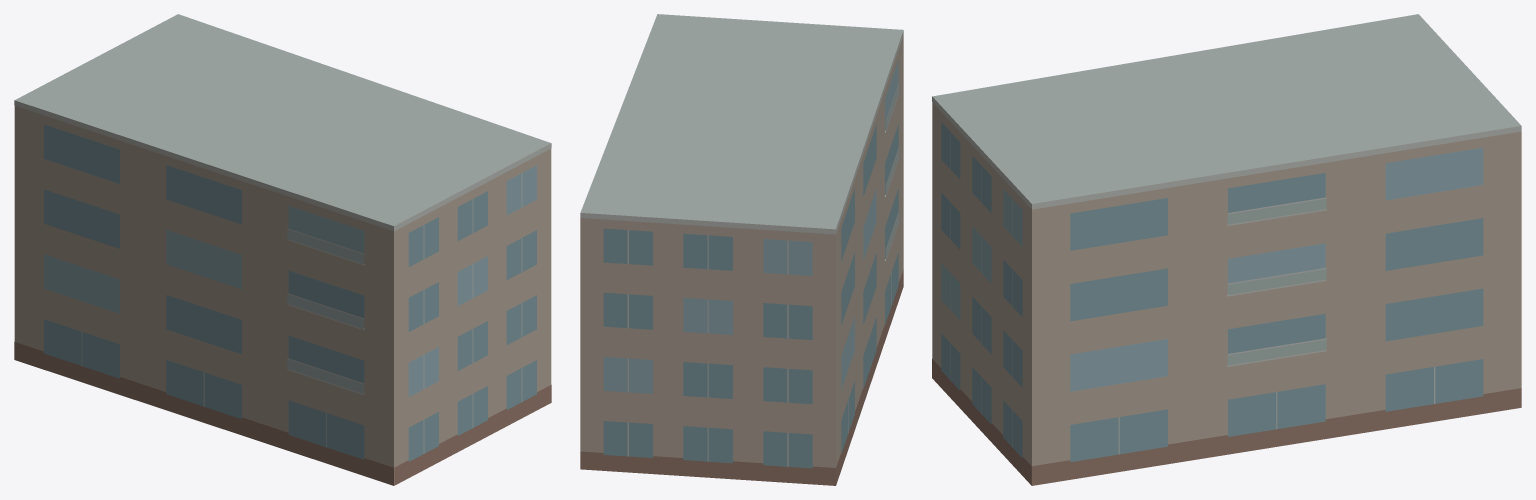
File: survey-upis-32856069.glb
3 views of the same model, side by side, from view 1: azimuth 30°, elevation 25°; view 2: azimuth 150°, elevation 25°; view 3: azimuth 270°, elevation 25° (orthographic). The views are drawn at different scales.
Visible parts, largest first — view 1: survey-upis-32856069.tmp; view 2: survey-upis-32856069.tmp; view 3: survey-upis-32856069.tmp.
Part boxes in pixels (x1,y1,x2,y2): survey-upis-32856069.tmp: [14, 14, 551, 485]; survey-upis-32856069.tmp: [580, 14, 903, 485]; survey-upis-32856069.tmp: [932, 14, 1521, 485].
Bounding box in the file's own units: 17.66 × 12.2 × 23.14.
